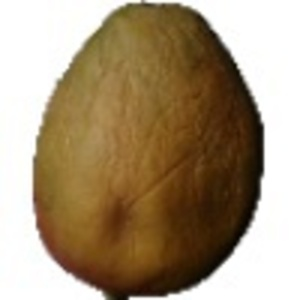mamão: (23, 2, 267, 294)
